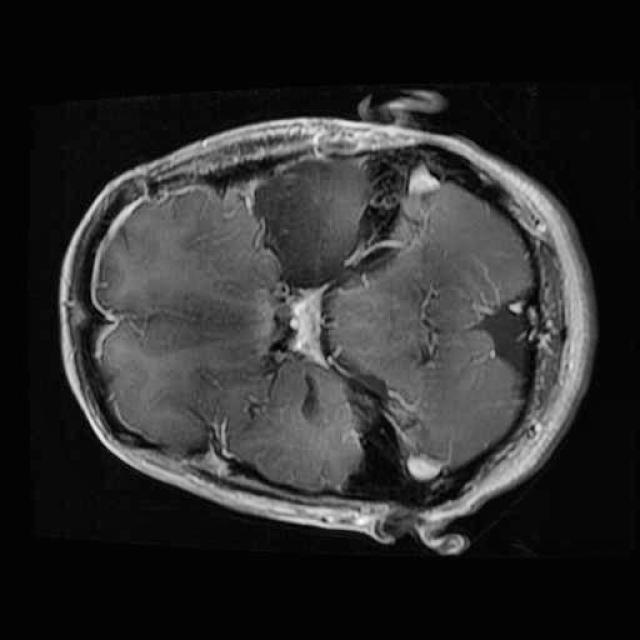Tumor: (238, 139, 387, 301)
